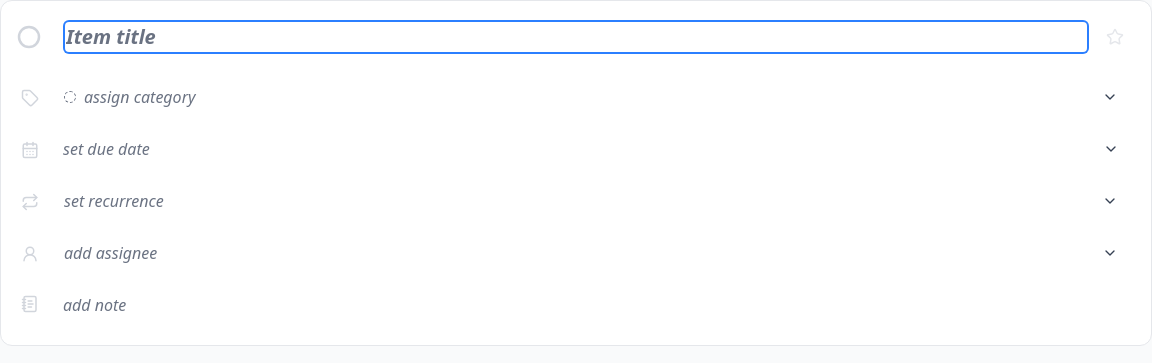
Scenario: ItemForm › category › resets to stale default after creating an item
Type "Reset category item" into the field with placeholder "Item title" at [576, 37], box [65,22,1087,52]
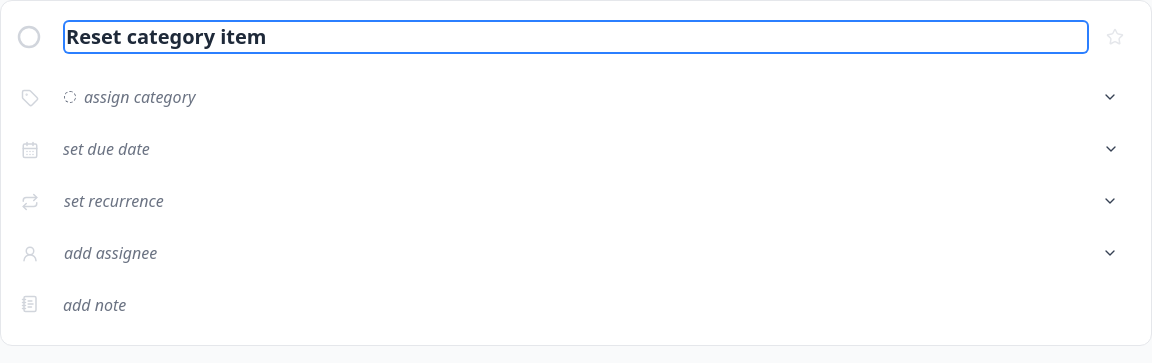
Click the dropdown named "category" at [589, 97], box [84,87,1094,107]
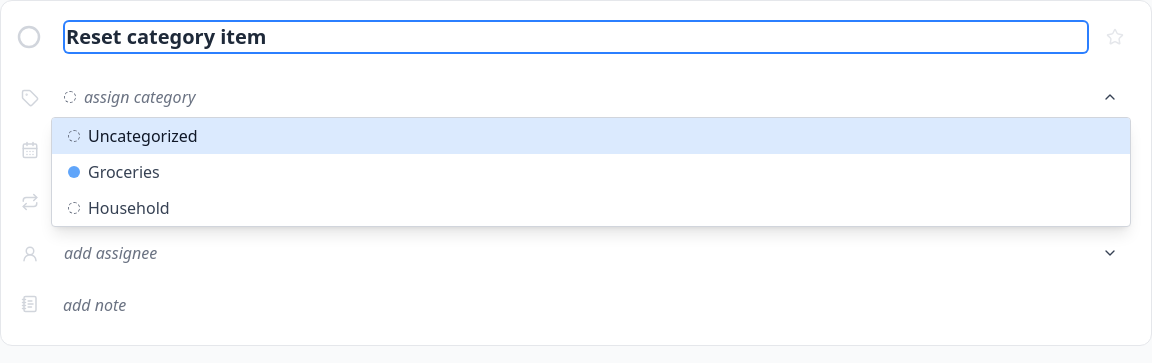
Click the option "Household" at [129, 208], box [52,190,1130,226]
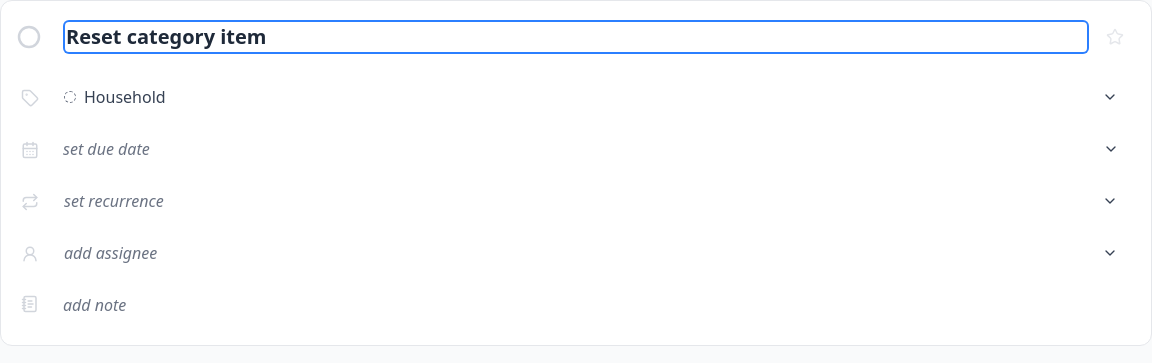
Press Enter in the field named "Item title", box [65,22,1087,52]
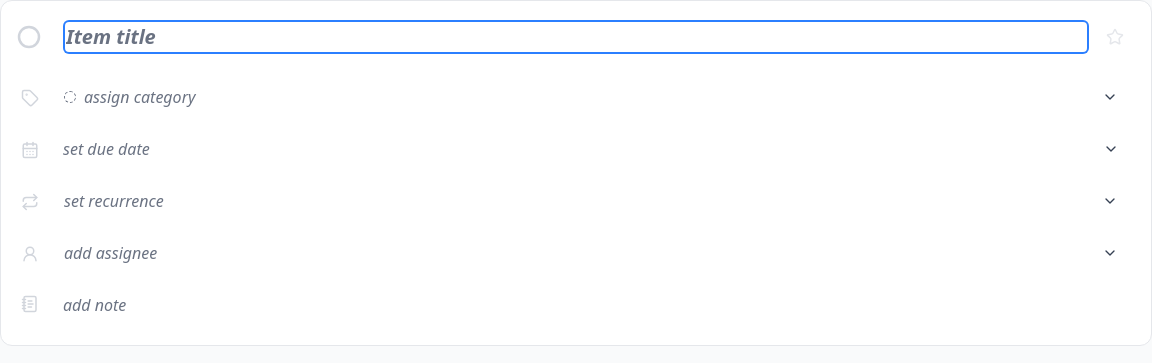
Expected: the dropdown named "category" holds "assign category", [84,87,1094,107]
